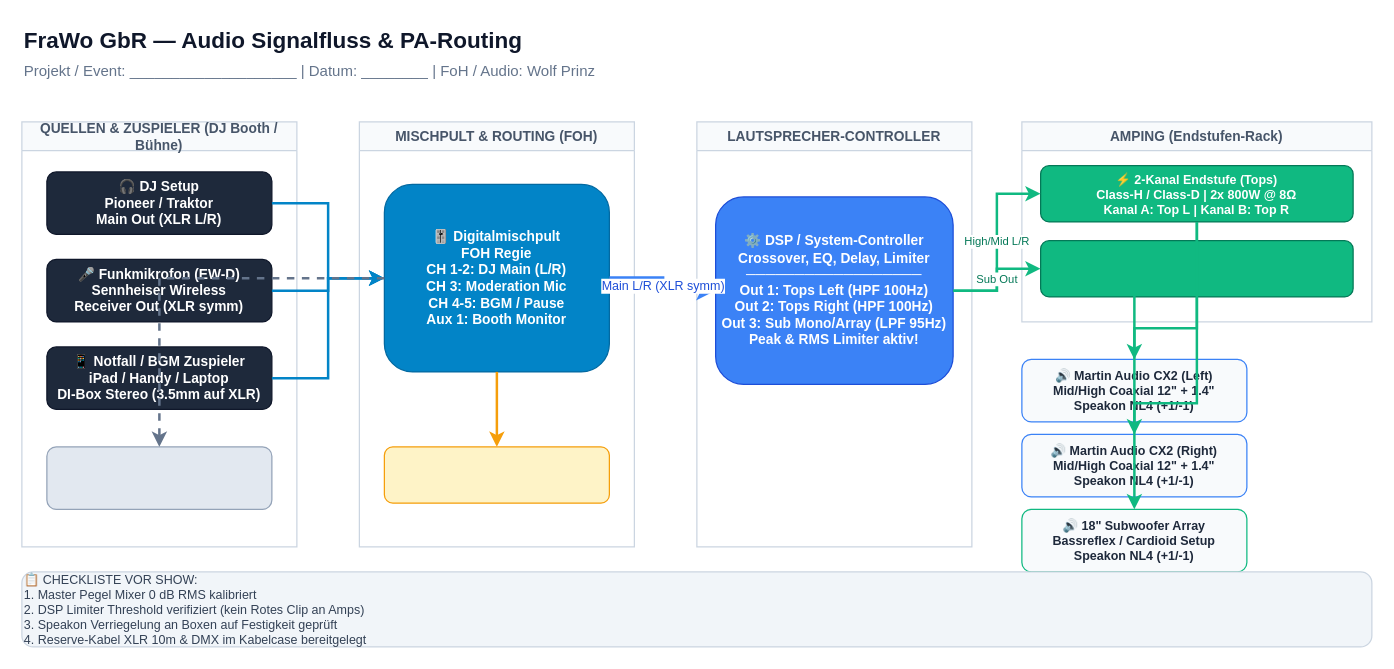
Image size: 1394x669. Some labels were removed from this diagram. The centre of each missing label's shape, as x and y in pixels:
⚡ Sub-Endstufe (High Power) Class-D | 2x 1800W @ 4Ω / Brücke Speakon Out 4-Pol: (1196,268)
🔊 DJ Booth Monitor Aktivbox (12" Coax) Symmetrisch Klinke/XLR: (159,477)
🔴 Live-Mitschnitt / Stream USB Audio / Matrix Out: (496,474)
